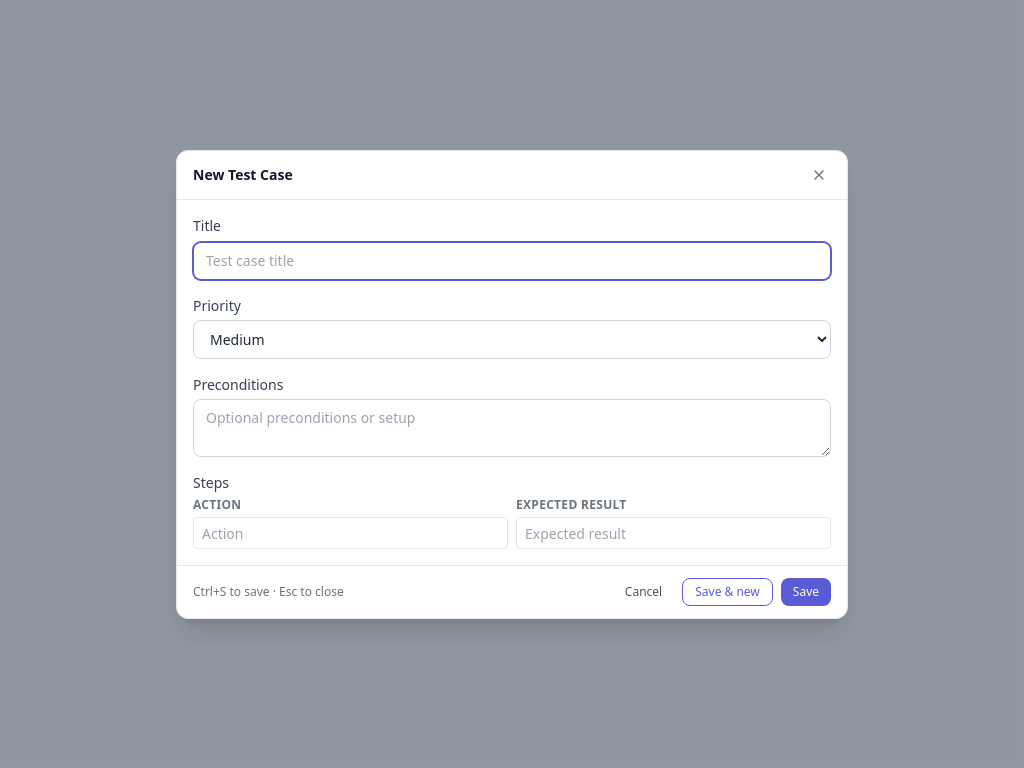
Test case: CasePanel — save feedback › failed save keeps the modal open and shows an error toast
In the field labelled "Title": {"x": 512, "y": 260} [193,242,831,280], type "My case"
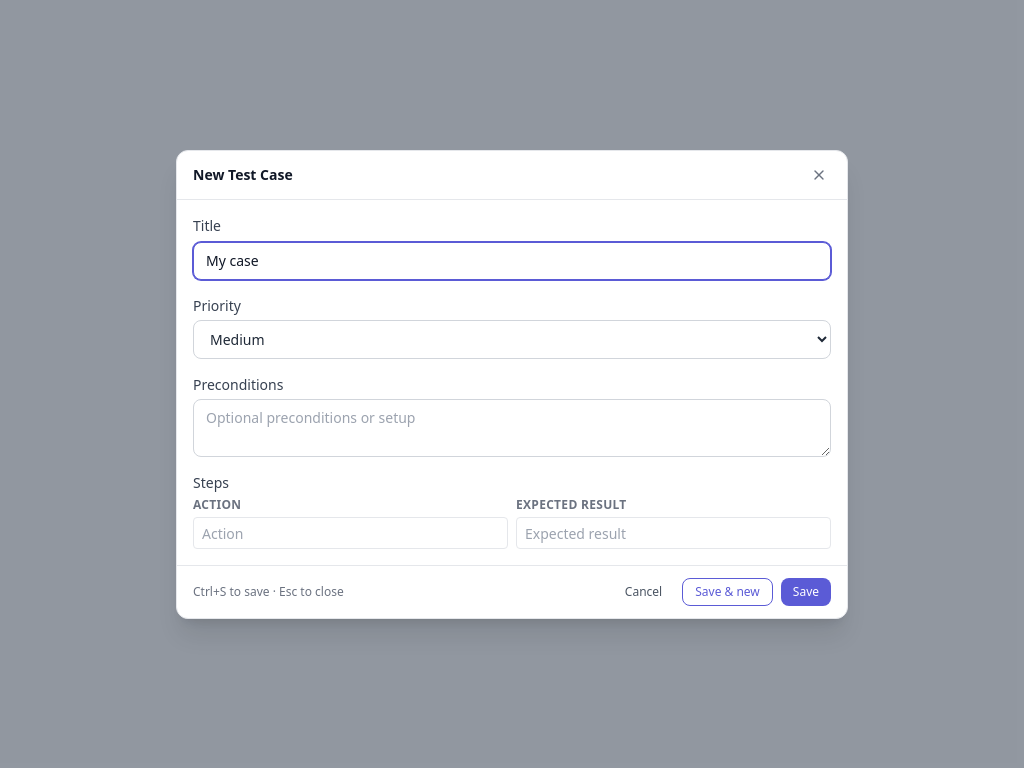
Click the button "Save": {"x": 806, "y": 592} [781,578,831,606]
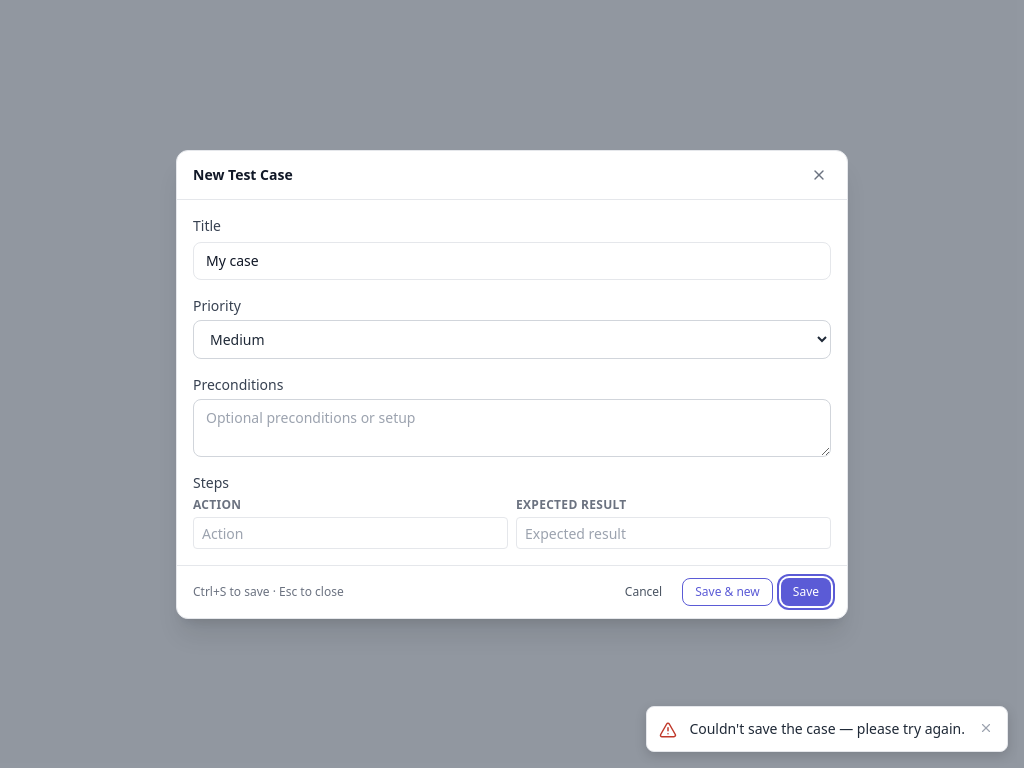
Check: the text "Couldn't save the case — please try again." is shown, box [689,719,965,739]
